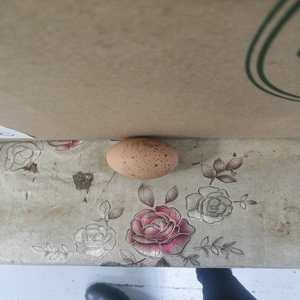brown egg: (105, 136, 180, 181)
